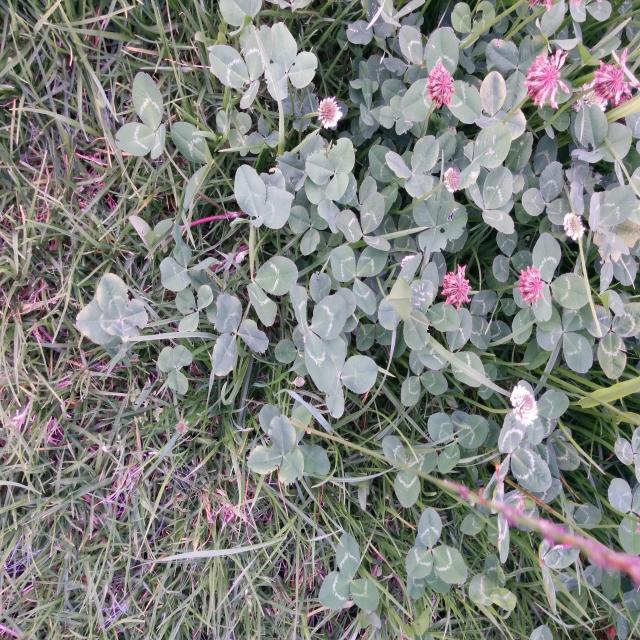Four Leaf Clover: (76, 275, 148, 344)
